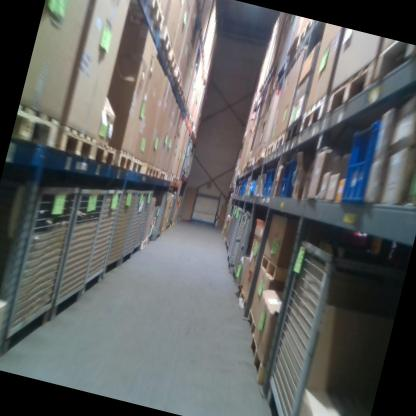pallet: (323, 47, 378, 127), (11, 101, 64, 152), (241, 333, 276, 388), (371, 53, 416, 95), (54, 121, 98, 160), (299, 87, 330, 139), (256, 253, 292, 286), (154, 25, 178, 65), (137, 0, 169, 29), (91, 139, 120, 167), (243, 306, 262, 339), (285, 112, 304, 145), (114, 147, 135, 172), (167, 50, 182, 79), (273, 126, 288, 154), (236, 287, 251, 313), (130, 158, 145, 177), (141, 162, 155, 180), (266, 136, 276, 159), (151, 166, 161, 179), (158, 170, 167, 182)
small_load_carrier: (337, 112, 383, 207), (279, 154, 305, 200), (266, 165, 281, 197), (261, 166, 274, 199), (239, 178, 249, 197)
stillage: (252, 228, 393, 416), (0, 165, 84, 365), (42, 176, 111, 332), (73, 179, 126, 308), (99, 184, 138, 292), (117, 189, 147, 272), (230, 210, 258, 283), (225, 210, 253, 276), (129, 190, 155, 259), (147, 191, 171, 245), (225, 205, 245, 260), (224, 204, 240, 252), (181, 137, 197, 178), (223, 202, 237, 244), (164, 191, 178, 231)
